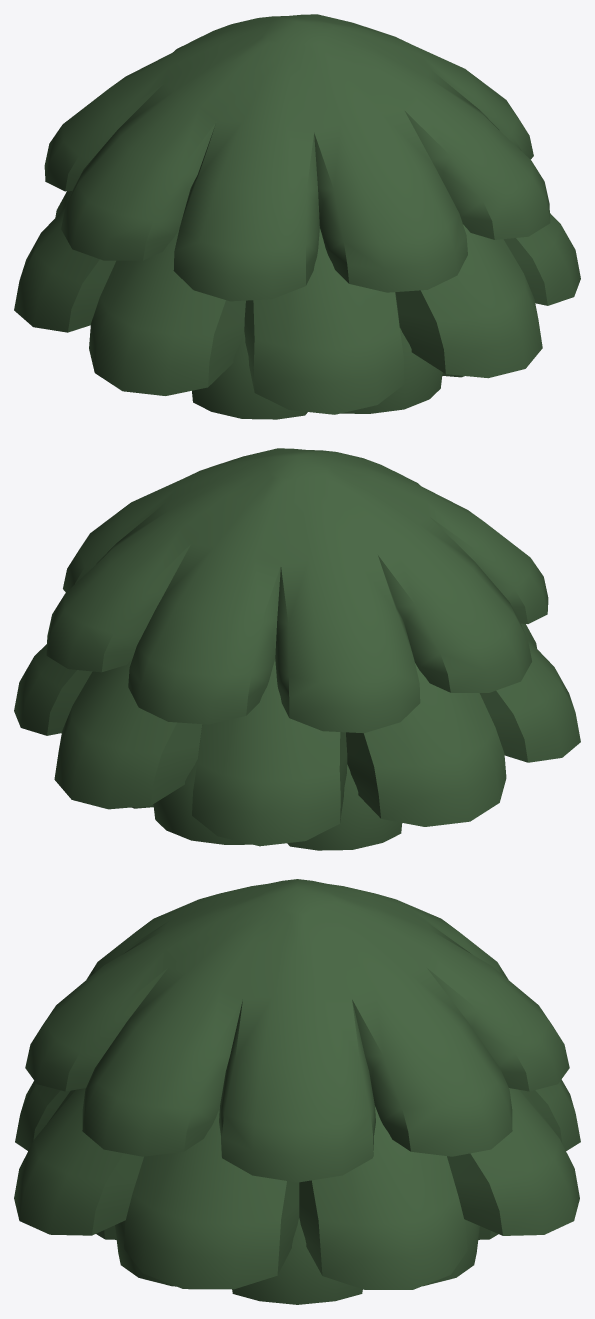
File: Bush.glb
The picture shows the model from 3 angles, top to bottom: view 1: azimuth 30°, elevation 25°; view 2: azimuth 150°, elevation 25°; view 3: azimuth 270°, elevation 25°; orthographic projection. The views are drawn at different scales.
Parts seen in each view (by area): view 1: Bush; view 2: Bush; view 3: Bush.
Boxes of the visible parts, x1=… form: Bush: x1=14, y1=14, x2=580, y2=419; Bush: x1=14, y1=448, x2=580, y2=850; Bush: x1=14, y1=879, x2=580, y2=1304.
Bounding box in the file's own units: 3.52 × 2.23 × 3.53.
